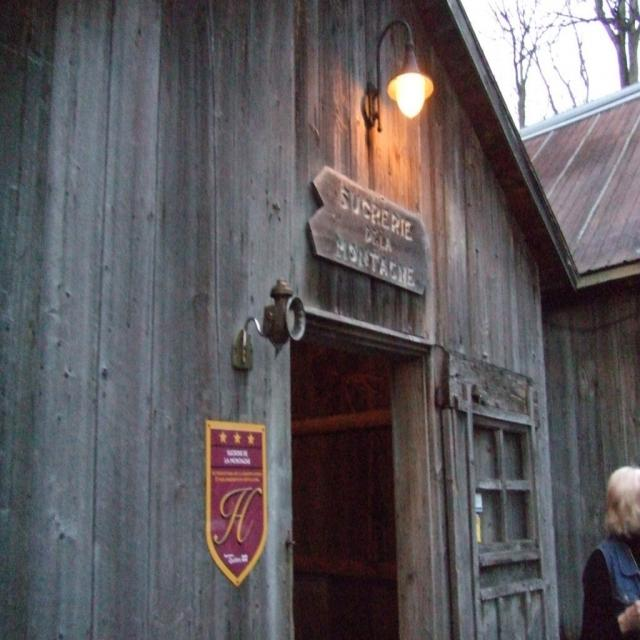Lamppost: (357, 25, 463, 189)
door: (447, 357, 575, 640)
